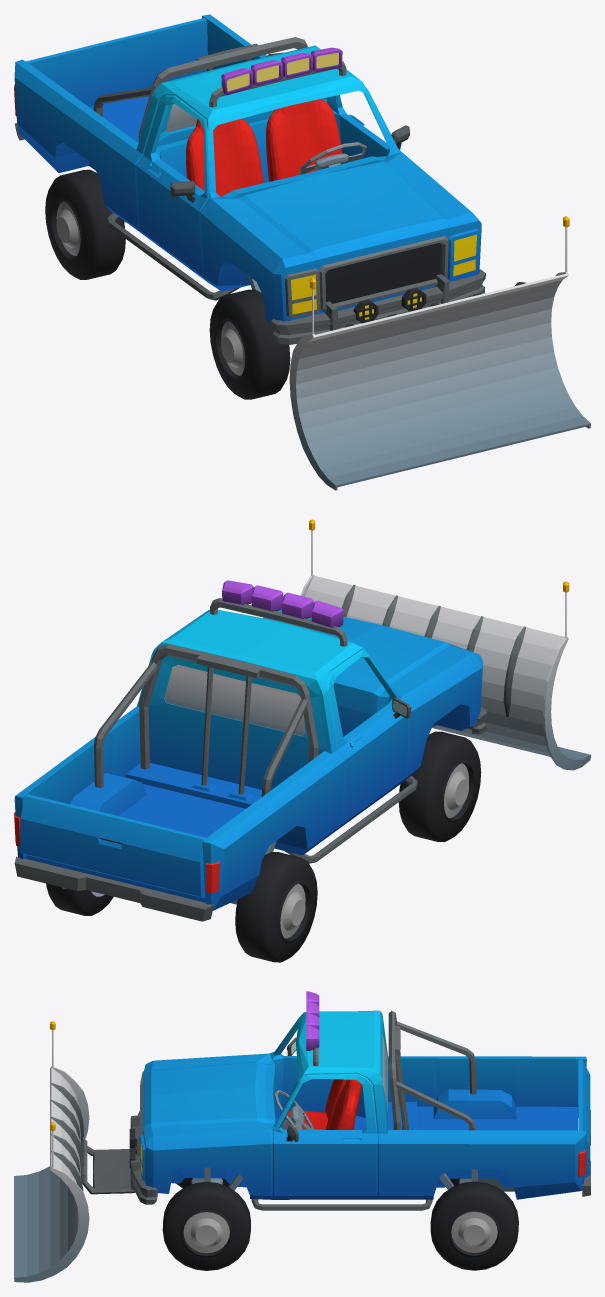
File: Shoveler_Car1.fbx
3 views of the same model, one above another, from view 1: azimuth 30°, elevation 25°; view 2: azimuth 150°, elevation 25°; view 3: azimuth 270°, elevation 25° (orthographic). The views are drawn at different scales.
Parts seen in each view (by area): view 1: Car.002, Shoveler.002, Wheel.002, Wheel.008; view 2: Car.002, Shoveler.002, Wheel.008, Wheel.002, Wheel.003; view 3: Car.002, Shoveler.002, Wheel.003, Wheel.001.
Part boxes in pixels (x1=…): Car.002: x1=14, y1=14, x2=485, y2=344; Shoveler.002: x1=289, y1=216, x2=590, y2=490; Wheel.002: x1=209, y1=289, x2=290, y2=399; Wheel.008: x1=45, y1=169, x2=125, y2=279; Car.002: x1=14, y1=580, x2=487, y2=921; Shoveler.002: x1=300, y1=519, x2=590, y2=770; Wheel.008: x1=235, y1=852, x2=317, y2=962; Wheel.002: x1=398, y1=731, x2=481, y2=842; Wheel.003: x1=46, y1=883, x2=113, y2=915; Car.002: x1=81, y1=991, x2=590, y2=1210; Shoveler.002: x1=14, y1=1021, x2=89, y2=1282; Wheel.003: x1=430, y1=1181, x2=518, y2=1270; Wheel.001: x1=162, y1=1182, x2=250, y2=1270.
Bounding box in the file's own units: 316 × 312 × 745.
